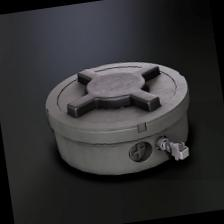PMN2: (34, 39, 219, 202)
